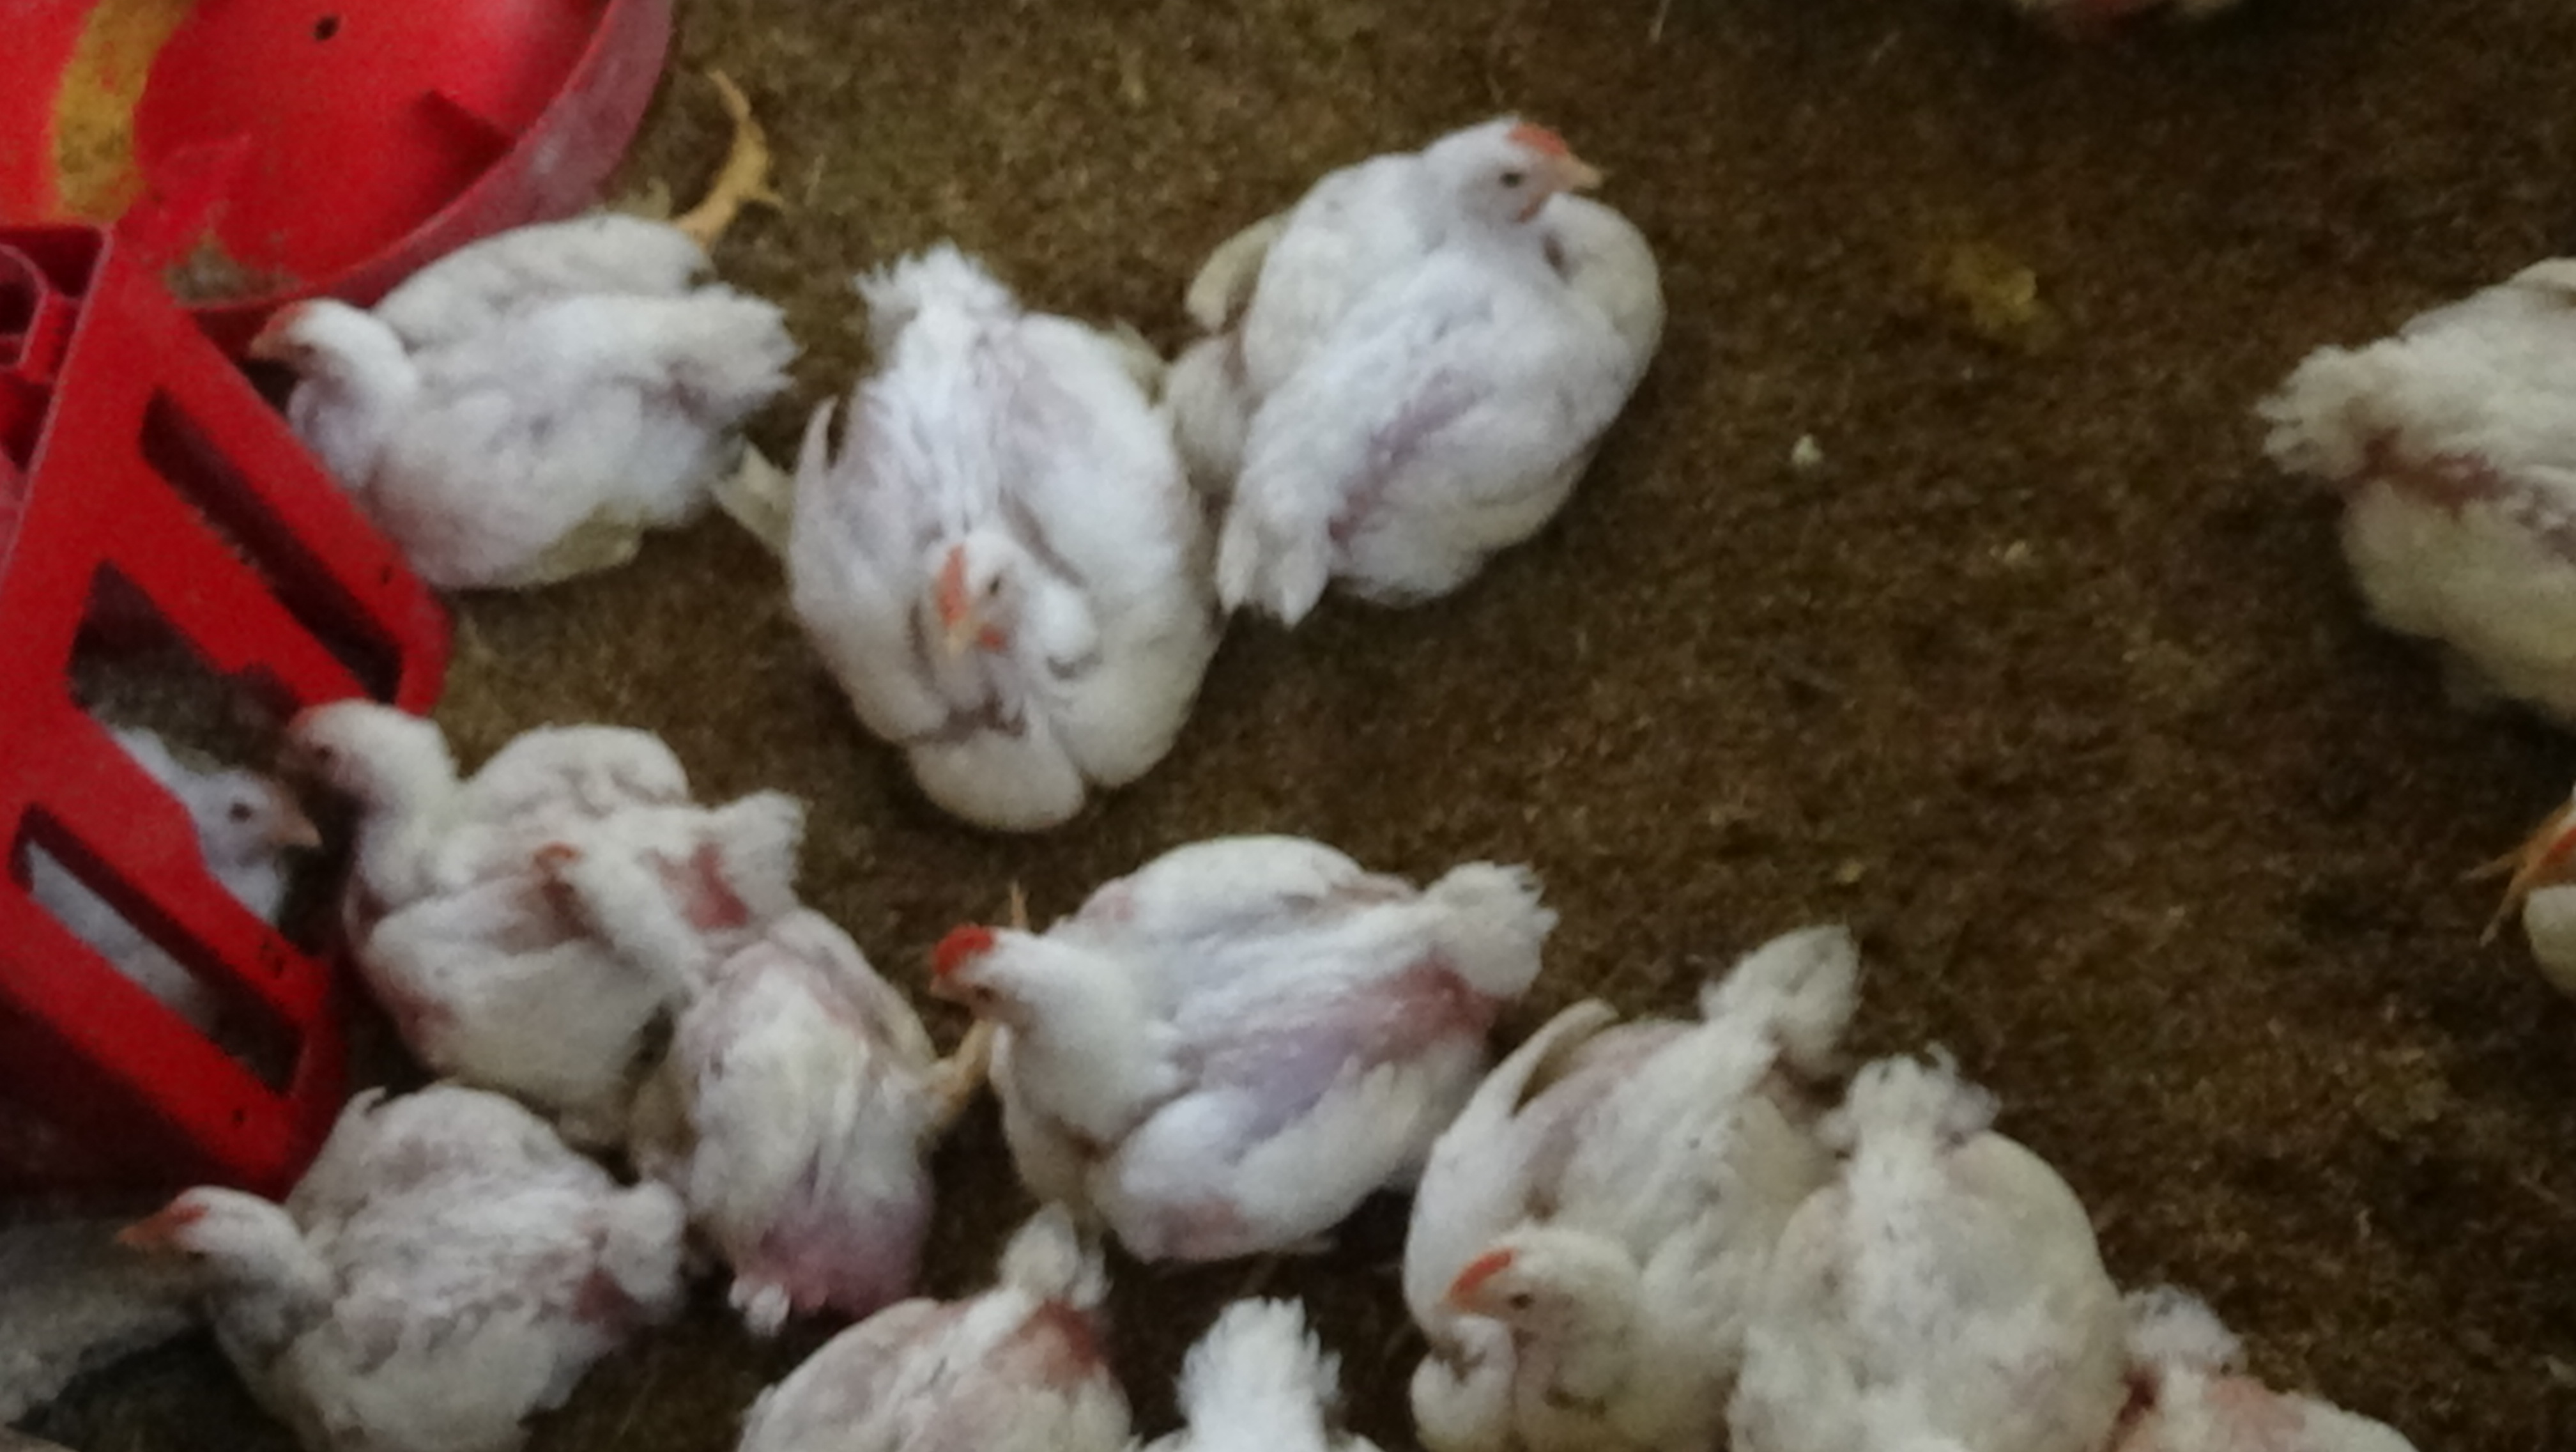Pollos: (1205, 80, 1695, 623), (755, 248, 1238, 779), (288, 99, 787, 581), (950, 843, 1523, 1243), (92, 1084, 665, 1452), (2265, 212, 2560, 767), (1775, 1071, 2123, 1452), (1401, 1121, 1721, 1445), (69, 703, 320, 965), (292, 639, 474, 912), (529, 829, 745, 981)
